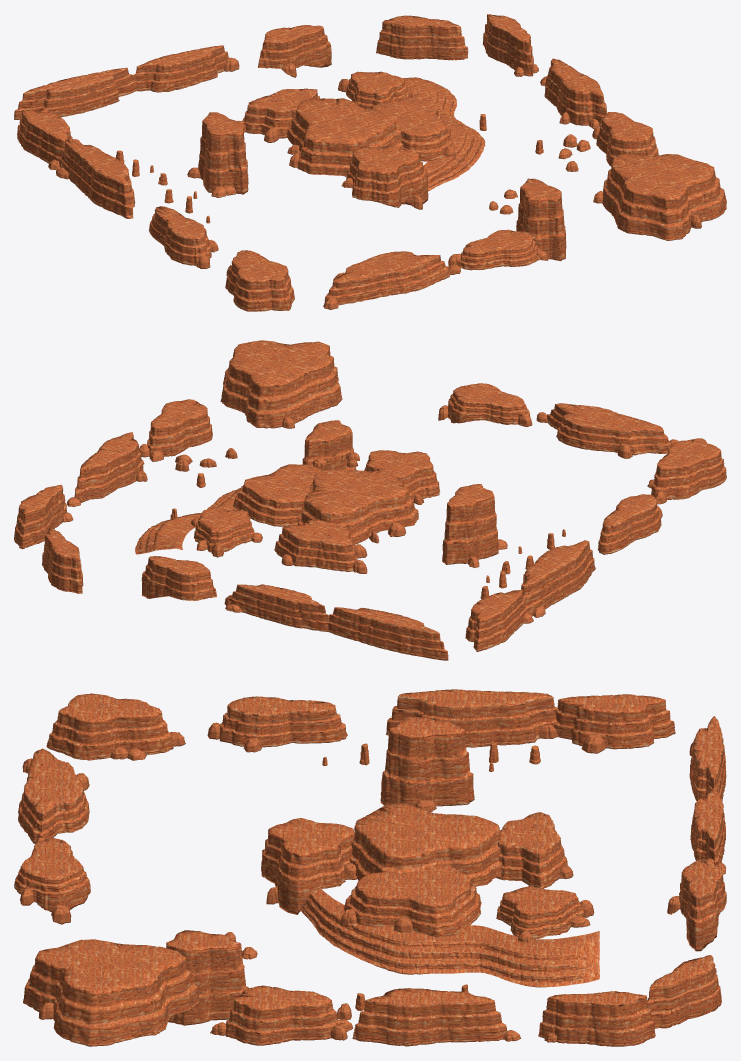
Rendered from desert-detail-game.glb.
3 views of the same model, one above another, from view 1: azimuth 30°, elevation 25°; view 2: azimuth 150°, elevation 25°; view 3: azimuth 270°, elevation 25° (orthographic). The views are drawn at different scales.
Parts seen in each view (by area): view 1: DETAIL_RockFormation_15_LOD0, DETAIL_RockFormation_01_LOD0, DETAIL_RockFormation_16_LOD0, DETAIL_SouthernMesa_LOD0, DETAIL_RockFormation_09_LOD0, DETAIL_RockFormation_05_LOD0, DETAIL_RockFormation_20_LOD0, DETAIL_RockFormation_04_LOD0, DETAIL_RockFormation_08_LOD0, DETAIL_RockFormation_00_LOD0, DETAIL_RockFormation_10_LOD0, DETAIL_RockFormation_19_LOD0 (+15 smaller); view 2: DETAIL_RockFormation_15_LOD0, DETAIL_RockFormation_01_LOD0, DETAIL_RockFormation_16_LOD0, DETAIL_RockFormation_09_LOD0, DETAIL_RockFormation_04_LOD0, DETAIL_RockFormation_03_LOD0, DETAIL_RockFormation_05_LOD0, DETAIL_RockFormation_08_LOD0, DETAIL_RockFormation_02_LOD0, DETAIL_RockFormation_10_LOD0, DETAIL_RockFormation_13_LOD0, DETAIL_RockFormation_14_LOD0 (+14 smaller); view 3: DETAIL_RockFormation_15_LOD0, DETAIL_RockFormation_00_LOD0, DETAIL_RockFormation_01_LOD0, DETAIL_RockFormation_13_LOD0, DETAIL_RockFormation_03_LOD0, DETAIL_RockFormation_04_LOD0, DETAIL_RockFormation_05_LOD0, DETAIL_RockFormation_08_LOD0, DETAIL_SouthernMesa_LOD0, DETAIL_RockFormation_12_LOD0, DETAIL_RockFormation_14_LOD0, DETAIL_RockFormation_07_LOD0 (+14 smaller).
Boxes of the visible parts, x1,y1,x2,y2 form: DETAIL_RockFormation_15_LOD0: [602, 154, 726, 240]; DETAIL_RockFormation_01_LOD0: [287, 98, 403, 175]; DETAIL_RockFormation_16_LOD0: [324, 251, 450, 305]; DETAIL_SouthernMesa_LOD0: [346, 146, 428, 207]; DETAIL_RockFormation_09_LOD0: [14, 67, 134, 119]; DETAIL_RockFormation_05_LOD0: [58, 139, 135, 218]; DETAIL_RockFormation_20_LOD0: [376, 15, 468, 60]; DETAIL_RockFormation_04_LOD0: [198, 112, 248, 194]; DETAIL_RockFormation_08_LOD0: [225, 250, 294, 311]; DETAIL_RockFormation_00_LOD0: [402, 77, 485, 191]; DETAIL_RockFormation_10_LOD0: [132, 45, 228, 92]; DETAIL_RockFormation_19_LOD0: [516, 178, 566, 260]; DETAIL_RockFormation_15_LOD0: [220, 340, 342, 428]; DETAIL_RockFormation_01_LOD0: [297, 469, 418, 544]; DETAIL_RockFormation_16_LOD0: [546, 403, 671, 455]; DETAIL_RockFormation_09_LOD0: [327, 607, 448, 660]; DETAIL_RockFormation_04_LOD0: [442, 484, 498, 564]; DETAIL_RockFormation_03_LOD0: [233, 464, 321, 526]; DETAIL_RockFormation_05_LOD0: [521, 540, 595, 616]; DETAIL_RockFormation_08_LOD0: [651, 438, 726, 500]; DETAIL_RockFormation_02_LOD0: [274, 519, 357, 571]; DETAIL_RockFormation_10_LOD0: [228, 584, 329, 631]; DETAIL_RockFormation_13_LOD0: [74, 432, 143, 502]; DETAIL_RockFormation_14_LOD0: [147, 399, 212, 456]; DETAIL_RockFormation_15_LOD0: [23, 939, 200, 1046]; DETAIL_RockFormation_00_LOD0: [301, 888, 599, 987]; DETAIL_RockFormation_01_LOD0: [349, 803, 502, 886]; DETAIL_RockFormation_13_LOD0: [352, 988, 507, 1046]; DETAIL_RockFormation_03_LOD0: [344, 863, 481, 937]; DETAIL_RockFormation_04_LOD0: [380, 716, 474, 806]; DETAIL_RockFormation_05_LOD0: [386, 689, 558, 747]; DETAIL_RockFormation_08_LOD0: [46, 693, 173, 760]; DETAIL_SouthernMesa_LOD0: [261, 818, 354, 914]; DETAIL_RockFormation_12_LOD0: [538, 991, 655, 1046]; DETAIL_RockFormation_14_LOD0: [225, 985, 341, 1045]; DETAIL_RockFormation_07_LOD0: [554, 694, 675, 749].
Size of what is drawn, in the model's own units: 867 by 196 by 864.
Materials: 3 (3 with a texture image).
